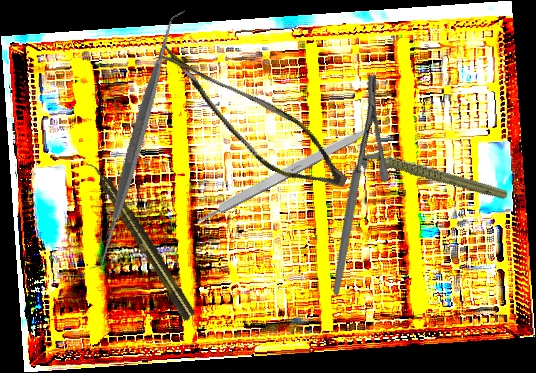Handpiece: (84, 155, 199, 324), (359, 116, 511, 229)
Micro Scissor: (132, 42, 366, 201)
Needle Holder: (266, 70, 441, 297)
Scalpel Handle: (193, 123, 371, 226)
Spatula Surgical: (8, 9, 267, 271)
